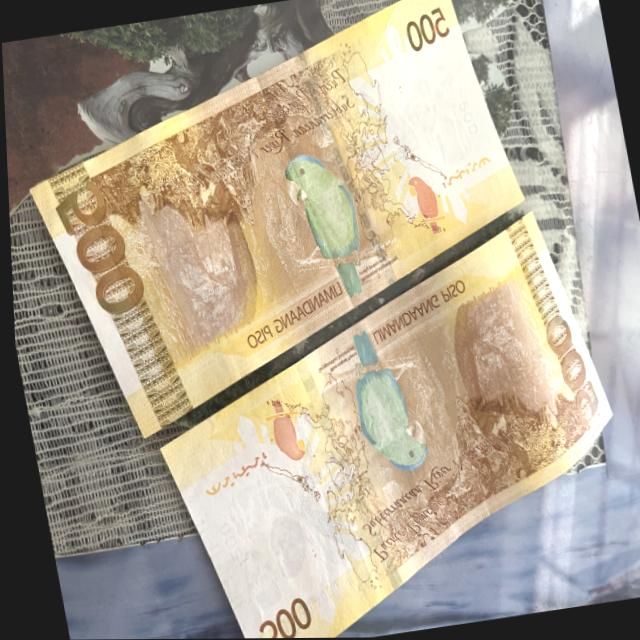500_big_parrot: (275, 148, 375, 300), (343, 324, 432, 472)
500_parrot_watermark: (260, 391, 306, 461), (400, 169, 444, 234)
value_watermark: (212, 516, 242, 571), (454, 97, 481, 136)
watermark: (203, 459, 331, 622), (380, 30, 482, 167)
